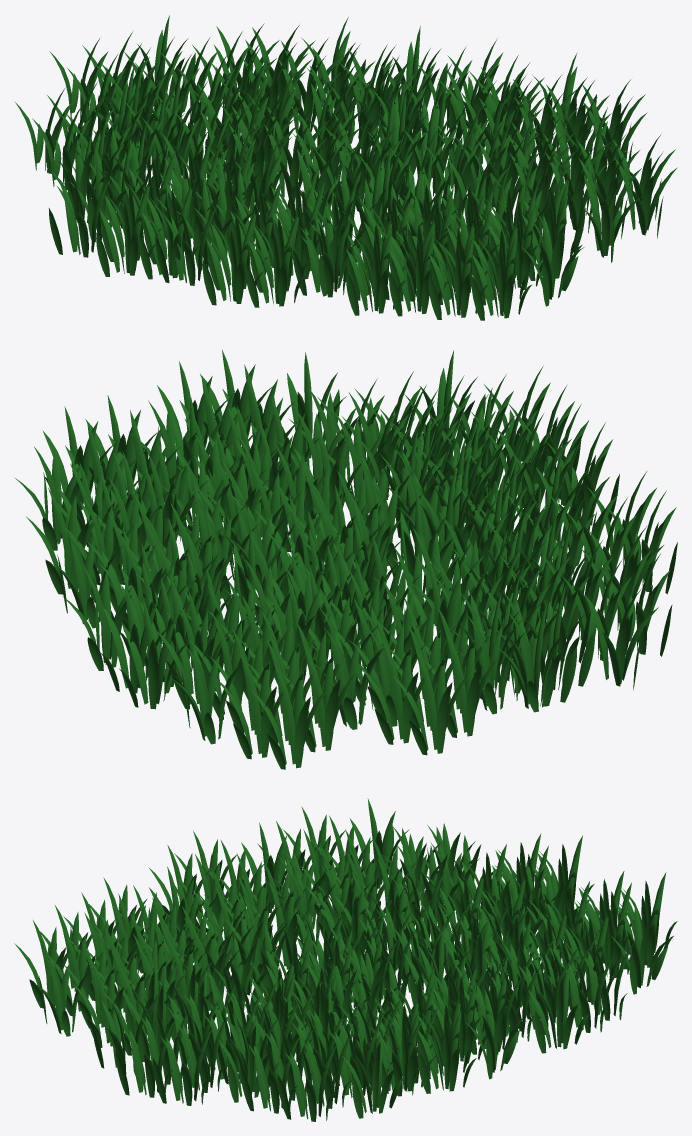
File: big pile.fbx
The picture shows the model from 3 angles, top to bottom: view 1: azimuth 30°, elevation 25°; view 2: azimuth 150°, elevation 25°; view 3: azimuth 270°, elevation 25°; orthographic projection. The views are drawn at different scales.
Visible parts, largest first — view 1: single_grass37; view 2: single_grass37; view 3: single_grass37.
Part boxes in pixels (x1,y1,x2,y2): single_grass37: (14,15,677,320); single_grass37: (14,349,677,769); single_grass37: (14,798,677,1121).
Size of the model in its own units: 365 by 52.92 by 389.
